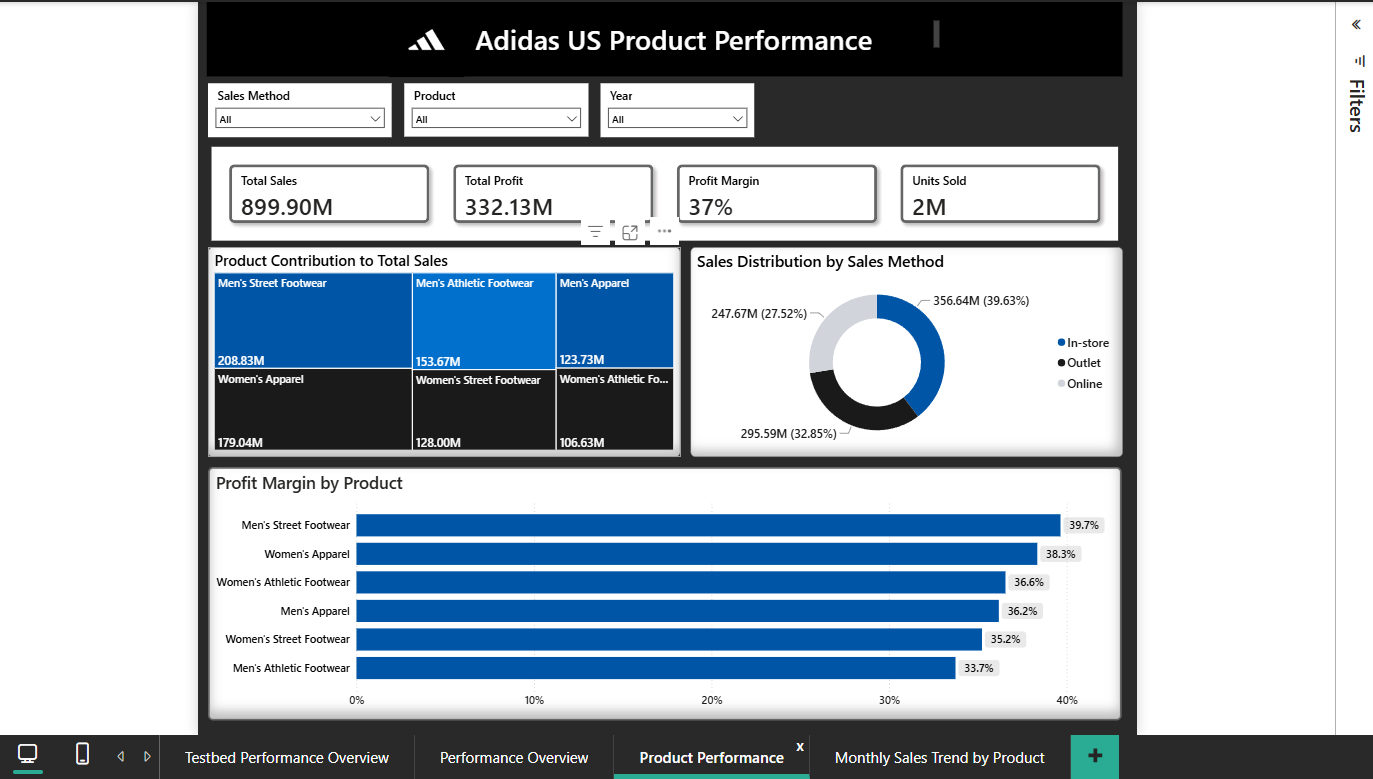

This screenshot's page, from the dashboard's own definition file:
{"tool":"powerbi","page":{"name":"Product Performance","canvas":[1280,1000],"ordinal":2},"visuals":[{"type":"cardVisual","fields":{"Data":["Sales Calculation.Total Sales","Sales Calculation.Total Profit","Sales Calculation.Profit Margin%","Sales Calculation.Unit Sold"]},"box":[13.6,192.6,1249.2,138],"z":0},{"type":"shape","box":[12.7,0,1248.5,101.5],"z":1000},{"type":"textbox","box":[373.2,20.5,642.5,59.6],"z":2000},{"type":"image","box":[110.8,0,402.2,102.3],"z":3000},{"type":"treemap","title":"Product Contribution to Total Sales","fields":{"Group":["Table 1 (Data Sales Adidas).Product"],"Values":["Sales Calculation.Total Sales"]},"box":[13.6,334,644.2,286.3],"z":4000},{"type":"donutChart","title":"Sales Distribution by Sales Method","fields":{"Category":["Table 1 (Data Sales Adidas).Sales Method"],"Y":["Sales Calculation.Total Sales"]},"box":[671.4,334,589.6,286.3],"z":5000},{"type":"clusteredBarChart","title":"Profit Margin by Product","fields":{"Category":["Table 1 (Data Sales Adidas).Product"],"Y":["Sales Calculation.Profit Margin%"]},"box":[14.2,633.6,1245.9,345.3],"z":6000},{"type":"slicer","fields":{"Values":["Date Table.Year"]},"box":[548.7,110.8,209.6,73.3],"z":8000},{"type":"slicer","fields":{"Values":["Table 1 (Data Sales Adidas).Sales Method"]},"box":[13.6,110.8,250.5,73.3],"z":9000},{"type":"slicer","fields":{"Values":["Table 1 (Data Sales Adidas).Product"]},"box":[281.2,110.3,250.9,73],"z":10000}]}

Visuals, with their boxes on the page's 1280x1000 design canvas (x1, y1, x2, y2). These are canvas units, not pixel positions in the 1373x779 screenshot, which may show the page scaled, cropped or inside an application window:
cardVisual - Sales Calculation.Total Sales x Sales Calculation.Total Profit: box(14, 193, 1263, 331)
shape: box(13, 0, 1261, 102)
textbox: box(373, 20, 1016, 80)
image: box(111, 0, 513, 102)
"Product Contribution to Total Sales" treemap: box(14, 334, 658, 620)
"Sales Distribution by Sales Method" donutChart: box(671, 334, 1261, 620)
"Profit Margin by Product" clusteredBarChart: box(14, 634, 1260, 979)
slicer - Date Table.Year: box(549, 111, 758, 184)
slicer - Table 1 (Data Sales Adidas).Sales Method: box(14, 111, 264, 184)
slicer - Table 1 (Data Sales Adidas).Product: box(281, 110, 532, 183)
